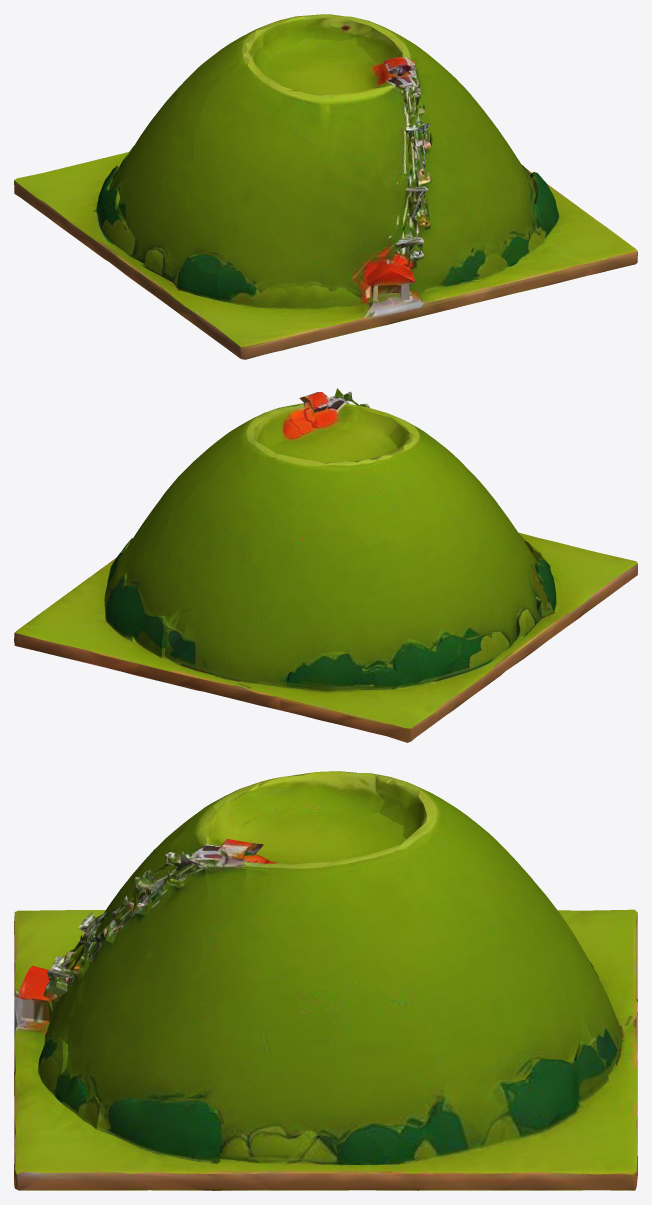
Rendered from omuroyama.glb.
3 views of the same model, one above another, from view 1: azimuth 30°, elevation 25°; view 2: azimuth 150°, elevation 25°; view 3: azimuth 270°, elevation 25° (orthographic). The views are drawn at different scales.
Visible parts, largest first — view 1: logan-textured.obj; view 2: logan-textured.obj; view 3: logan-textured.obj.
Part boxes in pixels (box(x1,y1,x2,y2)): logan-textured.obj: box(14, 14, 637, 359); logan-textured.obj: box(14, 388, 637, 742); logan-textured.obj: box(14, 771, 637, 1190).
Bounding box in the file's own units: 1 × 0.4409 × 1.
1 material, 1 textured.
